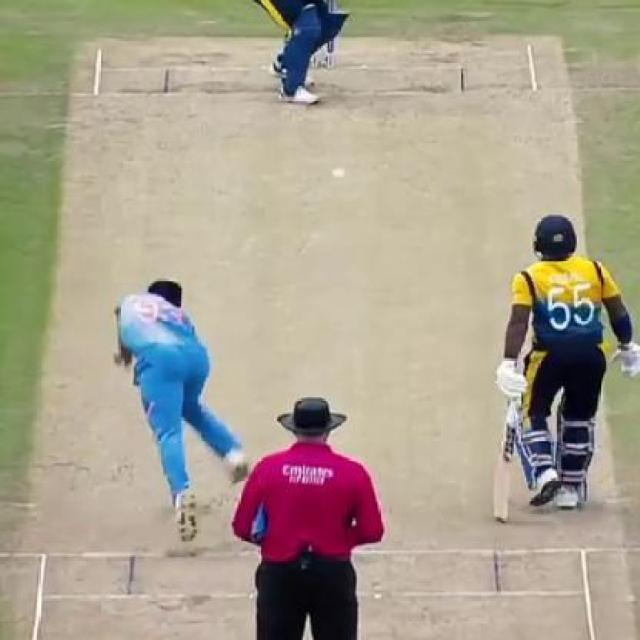Cricket ball: (332, 165, 348, 184)
